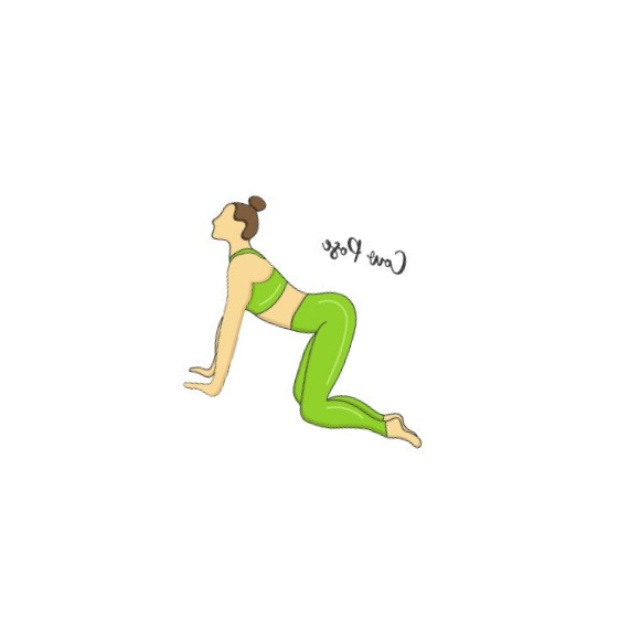Cow_Pose: (181, 195, 423, 449)
